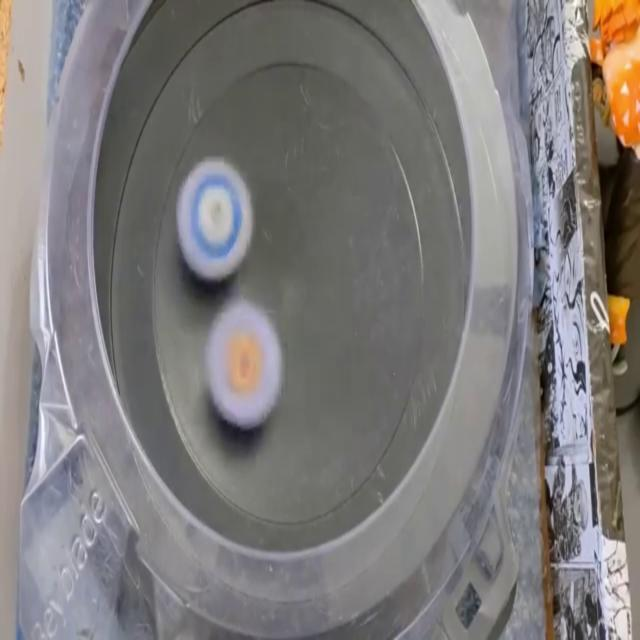Beyblade: (206, 304, 284, 432), (176, 158, 254, 280)
